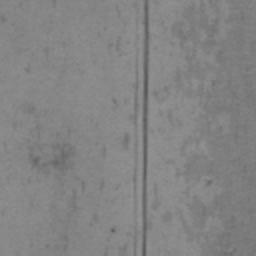Scratches: (131, 0, 150, 256)
